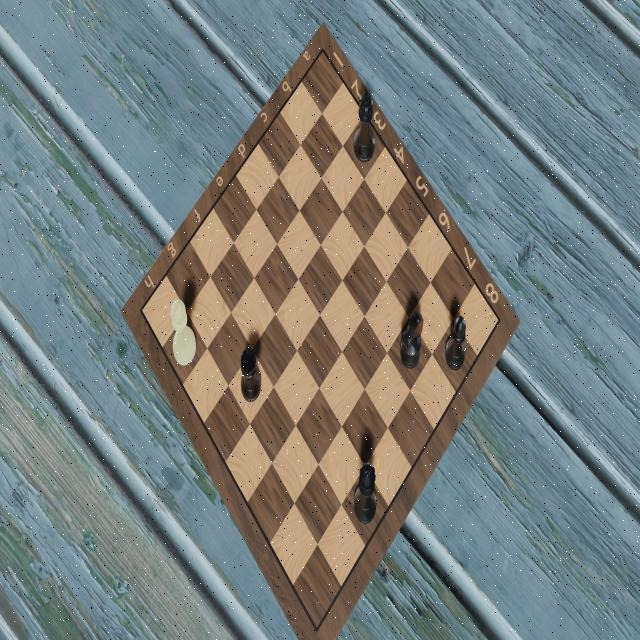black-king: (352, 87, 379, 167)
black-knight: (397, 309, 425, 373)
black-pawn: (443, 313, 468, 375)
black-queen: (353, 461, 379, 527)
black-rook: (238, 343, 263, 404)
white-king: (169, 296, 200, 371)
